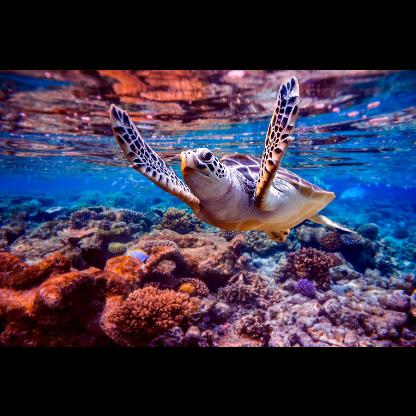turtle: (105, 74, 363, 240)
